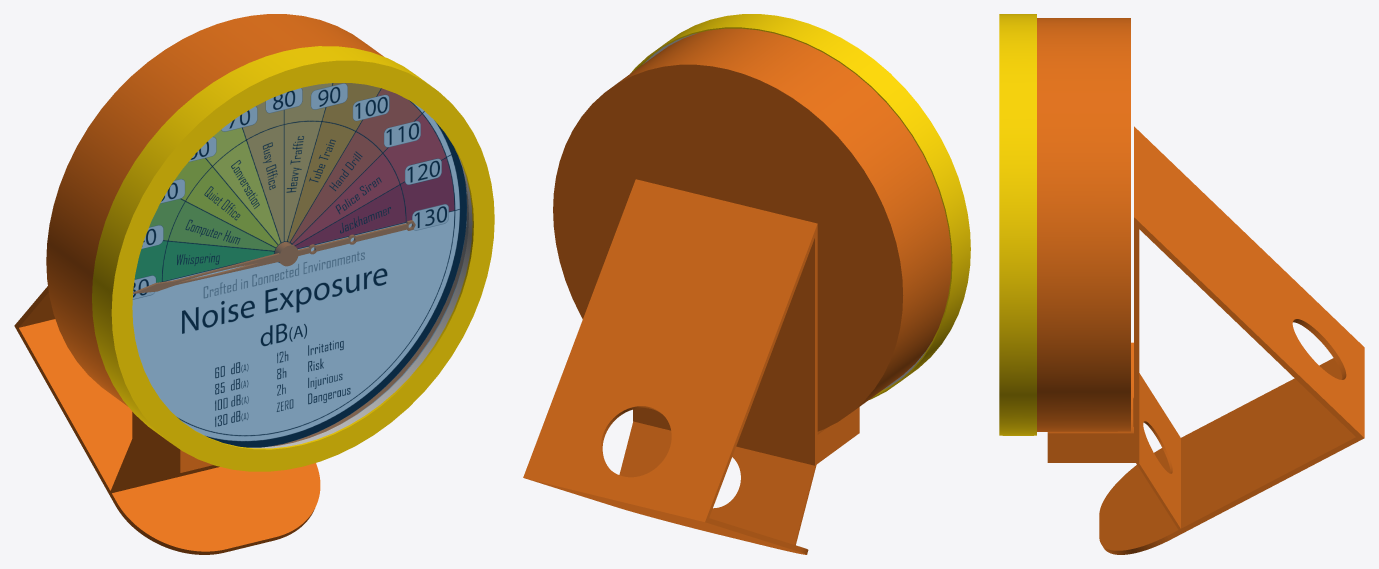
Rendered from Noise_Gauge_Blender.fbx.
The picture shows the model from 3 angles, left to right: view 1: azimuth 30°, elevation 25°; view 2: azimuth 150°, elevation 25°; view 3: azimuth 270°, elevation 25°; orthographic projection. The views are drawn at different scales.
Parts seen in each view (by area): view 1: Glass, DialGraphic, Dial_Cover, MainBody, GaugeStand, Pointer, Dial_Holder_2; view 2: MainBody, GaugeStand, Dial_Cover; view 3: GaugeStand, MainBody, Dial_Cover.
Boxes of the visible parts, x1,y1,x2,y2 form: Glass: [132, 83, 468, 447]; DialGraphic: [132, 83, 466, 447]; Dial_Cover: [92, 46, 494, 471]; MainBody: [46, 14, 468, 446]; GaugeStand: [14, 286, 320, 554]; Pointer: [133, 220, 415, 293]; Dial_Holder_2: [249, 157, 472, 448]; MainBody: [553, 28, 951, 431]; GaugeStand: [523, 179, 859, 554]; Dial_Cover: [630, 14, 970, 399]; GaugeStand: [1047, 126, 1364, 554]; MainBody: [1037, 18, 1130, 431]; Dial_Cover: [999, 14, 1036, 435].
Size of the model in its own units: 15.7 by 20.38 by 13.59.
Materials: 6 (1 with a texture image).
